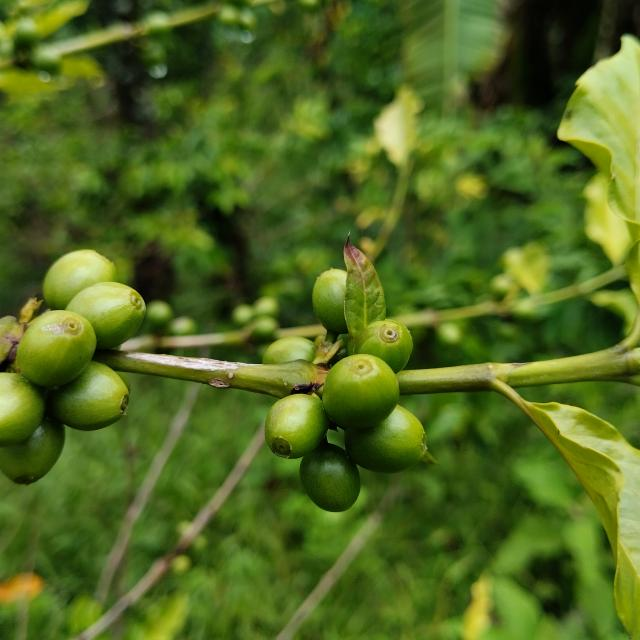green: (16, 310, 95, 388), (322, 354, 400, 429), (46, 361, 129, 431), (345, 405, 427, 474), (65, 282, 145, 349), (42, 249, 116, 310), (300, 440, 361, 513), (265, 394, 330, 459), (0, 419, 64, 485), (0, 373, 44, 448), (354, 319, 413, 373), (313, 268, 348, 334), (262, 337, 317, 364)
